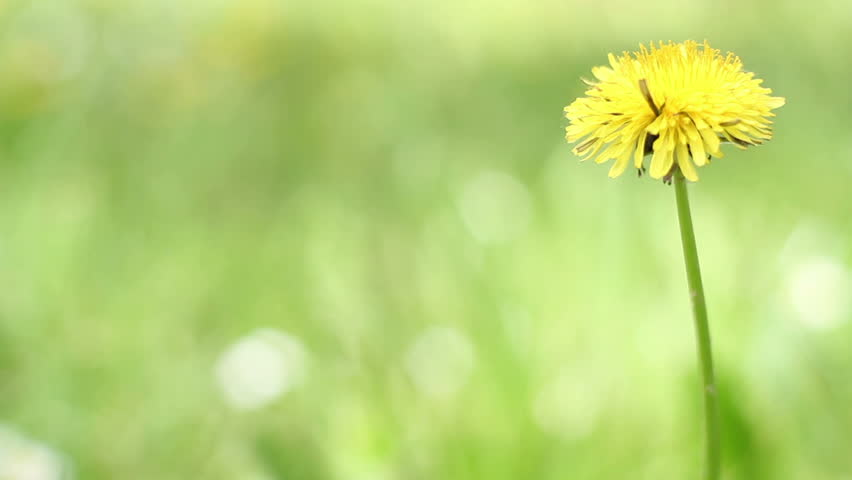dandelion: (579, 44, 753, 187)
